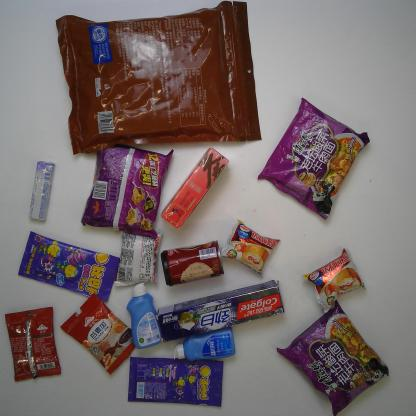Candy: (20, 229, 122, 302), (126, 354, 225, 406), (28, 161, 55, 222)
Canned Food: (160, 240, 227, 286)
Dessert: (303, 248, 368, 313), (224, 220, 284, 276), (113, 227, 162, 287)
Dried Food: (52, 1, 263, 155)
Instant Drink: (58, 291, 138, 372), (160, 148, 232, 228), (2, 306, 67, 385)
Instant Noodles: (255, 95, 370, 222), (274, 302, 391, 415), (81, 139, 175, 235)
Personal Hygiene: (153, 281, 289, 341), (122, 282, 164, 349), (172, 333, 240, 360)
